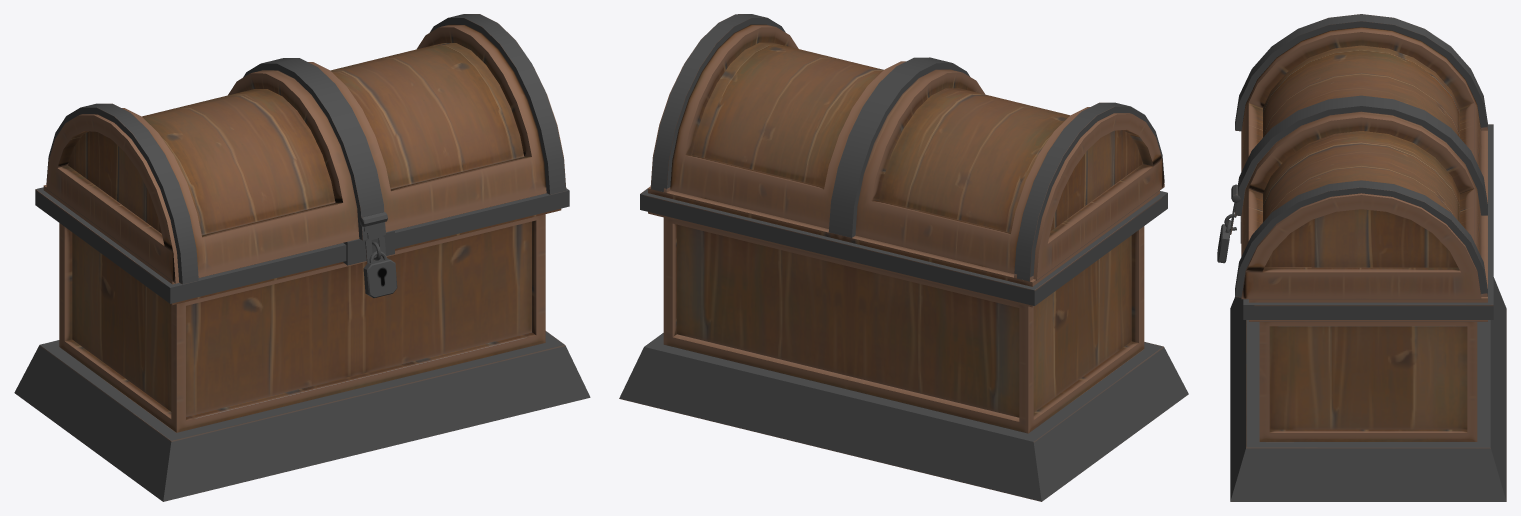
The model's file is Chest.fbx.
3 views of the same model, side by side, from view 1: azimuth 30°, elevation 25°; view 2: azimuth 150°, elevation 25°; view 3: azimuth 270°, elevation 25° (orthographic). The views are drawn at different scales.
Parts seen in each view (by area): view 1: Chest_Body, Chest; view 2: Chest_Body, Chest; view 3: Chest, Chest_Body.
Boxes of the visible parts, x1,y1,x2,y2 form: Chest_Body: (14, 185, 590, 501); Chest: (46, 14, 566, 297); Chest_Body: (619, 186, 1188, 501); Chest: (650, 14, 1164, 281); Chest: (1217, 14, 1487, 299); Chest_Body: (1230, 124, 1506, 501).
Size of the model in its own units: 143 by 105 by 90.36.
1 material, 1 textured.
